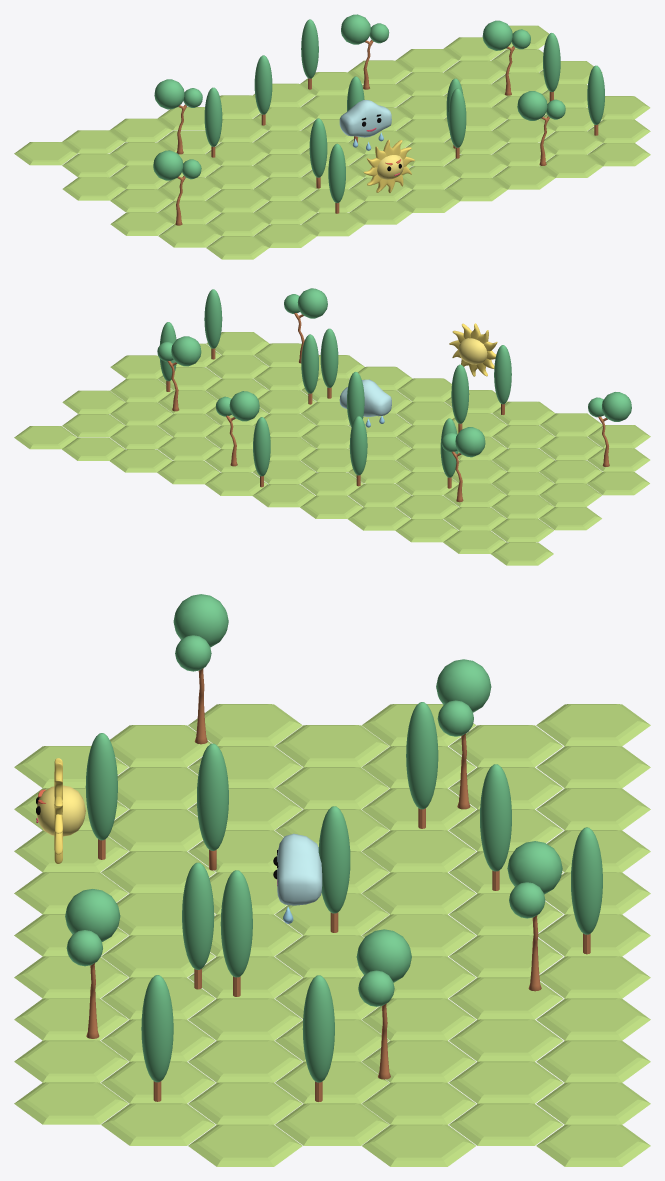
The model's file is scena3.gltf.
The picture shows the model from 3 angles, top to bottom: view 1: azimuth 30°, elevation 25°; view 2: azimuth 150°, elevation 25°; view 3: azimuth 270°, elevation 25°; orthographic projection. The views are drawn at different scales.
Visible parts, largest first — view 1: Clyde, Sunnie, Bonsai.001, Bonsai.004, Bonsai.003, Bonsai, Bonsai.002, Polje_6_0, Polje_1_2, Polje_6_8, Polje_4_2, Polje_4_0 (+75 smaller); view 2: Sunnie, Bonsai.004, Bonsai.003, Bonsai, Bonsai.001, Polje_7_7, Polje_3_0, Polje_5_8, Polje_6_3, Polje_4_9, Bonsai.002, Polje_4_1 (+75 smaller); view 3: Polje_6_9, Polje_3_10, Polje_5_9, Polje_6_7, Polje_6_8, Polje_7_7, Polje_7_10, Polje_4_9, Polje_2_9, Polje_3_9, Polje_5_4, Polje_7_8 (+77 smaller).
Boxes of the visible parts, <box> form: Clyde: <box>339,100,391,150</box>; Sunnie: <box>363,139,414,192</box>; Bonsai.001: <box>153,150,201,225</box>; Bonsai.004: <box>341,14,389,89</box>; Bonsai.003: <box>482,20,530,95</box>; Bonsai: <box>154,79,202,154</box>; Bonsai.002: <box>517,91,565,165</box>; Polje_6_0: <box>62,153,125,177</box>; Polje_1_2: <box>301,212,364,236</box>; Polje_6_8: <box>443,60,505,84</box>; Polje_4_2: <box>205,165,268,189</box>; Polje_4_0: <box>110,189,173,212</box>; Sunnie: <box>449,323,497,376</box>; Bonsai.004: <box>215,391,259,466</box>; Bonsai.003: <box>157,336,201,411</box>; Bonsai: <box>441,427,485,502</box>; Bonsai.001: <box>588,392,631,466</box>; Polje_7_7: <box>157,460,220,484</box>; Polje_3_0: <box>587,471,649,495</box>; Polje_5_8: <box>157,413,220,437</box>; Polje_6_3: <box>348,483,411,507</box>; Polje_4_9: <box>110,378,173,402</box>; Bonsai.002: <box>284,288,327,363</box>; Polje_4_1: <box>491,472,554,495</box>; Polje_6_9: <box>449,1103,563,1145</box>; Polje_3_10: <box>188,1124,302,1166</box>; Polje_5_9: <box>362,1082,475,1124</box>; Polje_6_7: <box>449,1019,563,1061</box>; Polje_6_8: <box>449,1061,563,1103</box>; Polje_7_7: <box>536,998,650,1040</box>; Polje_7_10: <box>536,1124,650,1166</box>; Polje_4_9: <box>275,1103,389,1145</box>; Polje_2_9: <box>101,1103,215,1145</box>; Polje_3_9: <box>188,1082,302,1124</box>; Polje_5_4: <box>362,872,476,914</box>; Polje_7_8: <box>536,1040,650,1082</box>.
Size of the model in its own units: 19.05 by 2.71 by 11.09.
Materials: 12 (12 with a texture image).
